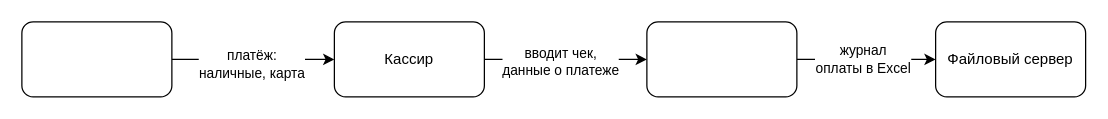
Some shapes in this 1108 by 119 pixel diagram are drawn without their labels. Here are the shapes that lost their labels. From the top down, the centre of each, then its label:
At pixel 96 59: "Пациент".
At pixel 721 59: "1С Бухгалтерия".
